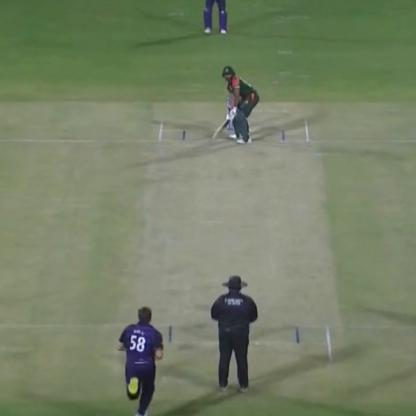bat: (208, 108, 235, 138)
pitch: (146, 117, 336, 368)
